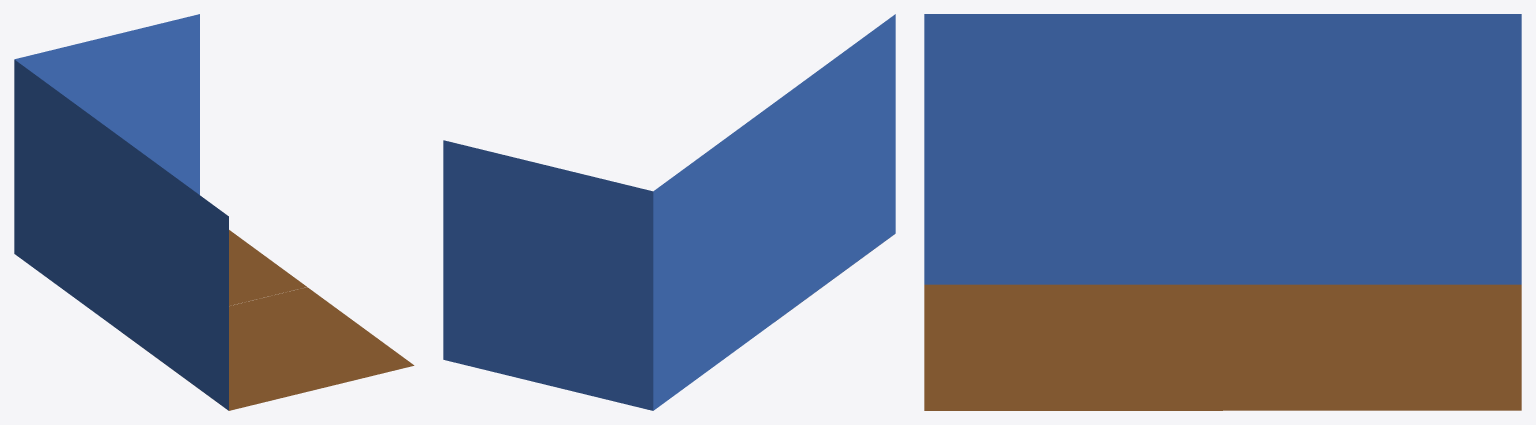
Rendered from room03.glb.
3 renders of one model, left to right at view 1: azimuth 30°, elevation 25°; view 2: azimuth 150°, elevation 25°; view 3: azimuth 270°, elevation 25°, orthographic. The views are drawn at different scales.
Parts seen in each view (by area): view 1: Cube; view 2: Cube; view 3: Cube.
Part boxes in pixels (x1,y1,x2,y2): Cube: (14,14,414,410); Cube: (443,14,895,410); Cube: (924,14,1521,410).
Size of the model in its own units: 8 by 8 by 16.
